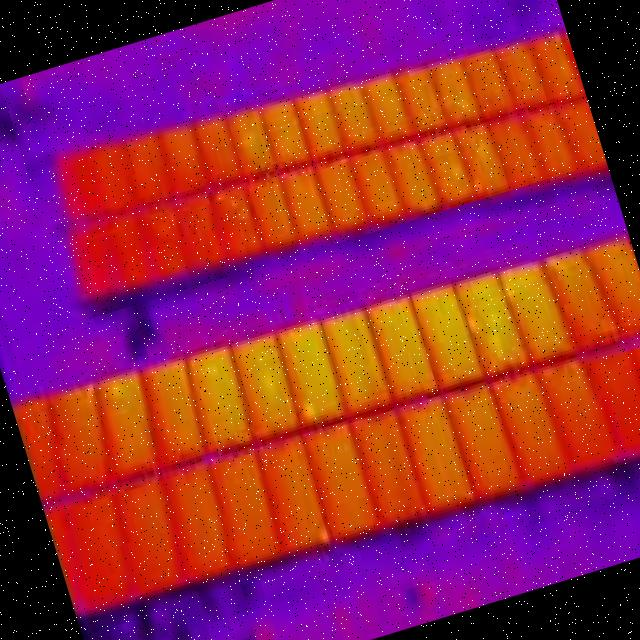Hotspot: (477, 318, 513, 372), (102, 376, 132, 412), (463, 306, 488, 344), (295, 397, 323, 427), (312, 516, 336, 550)
